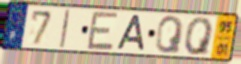7: (30, 10, 53, 46)
A: (114, 14, 146, 52)
E: (86, 10, 121, 52)
I: (58, 9, 72, 50)
Q: (183, 16, 215, 57), (154, 14, 186, 55)
